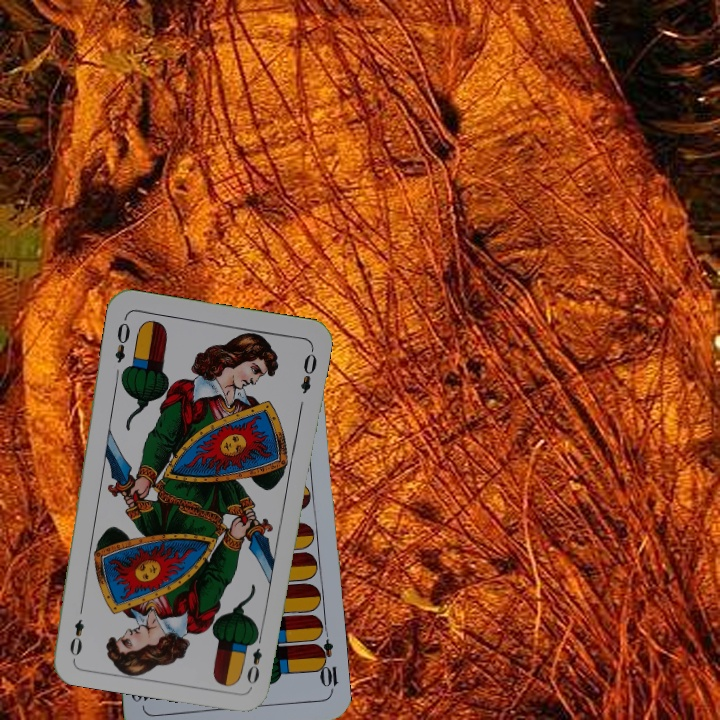E10: (311, 636, 340, 695)
EO: (243, 629, 265, 687), (110, 313, 133, 365)
